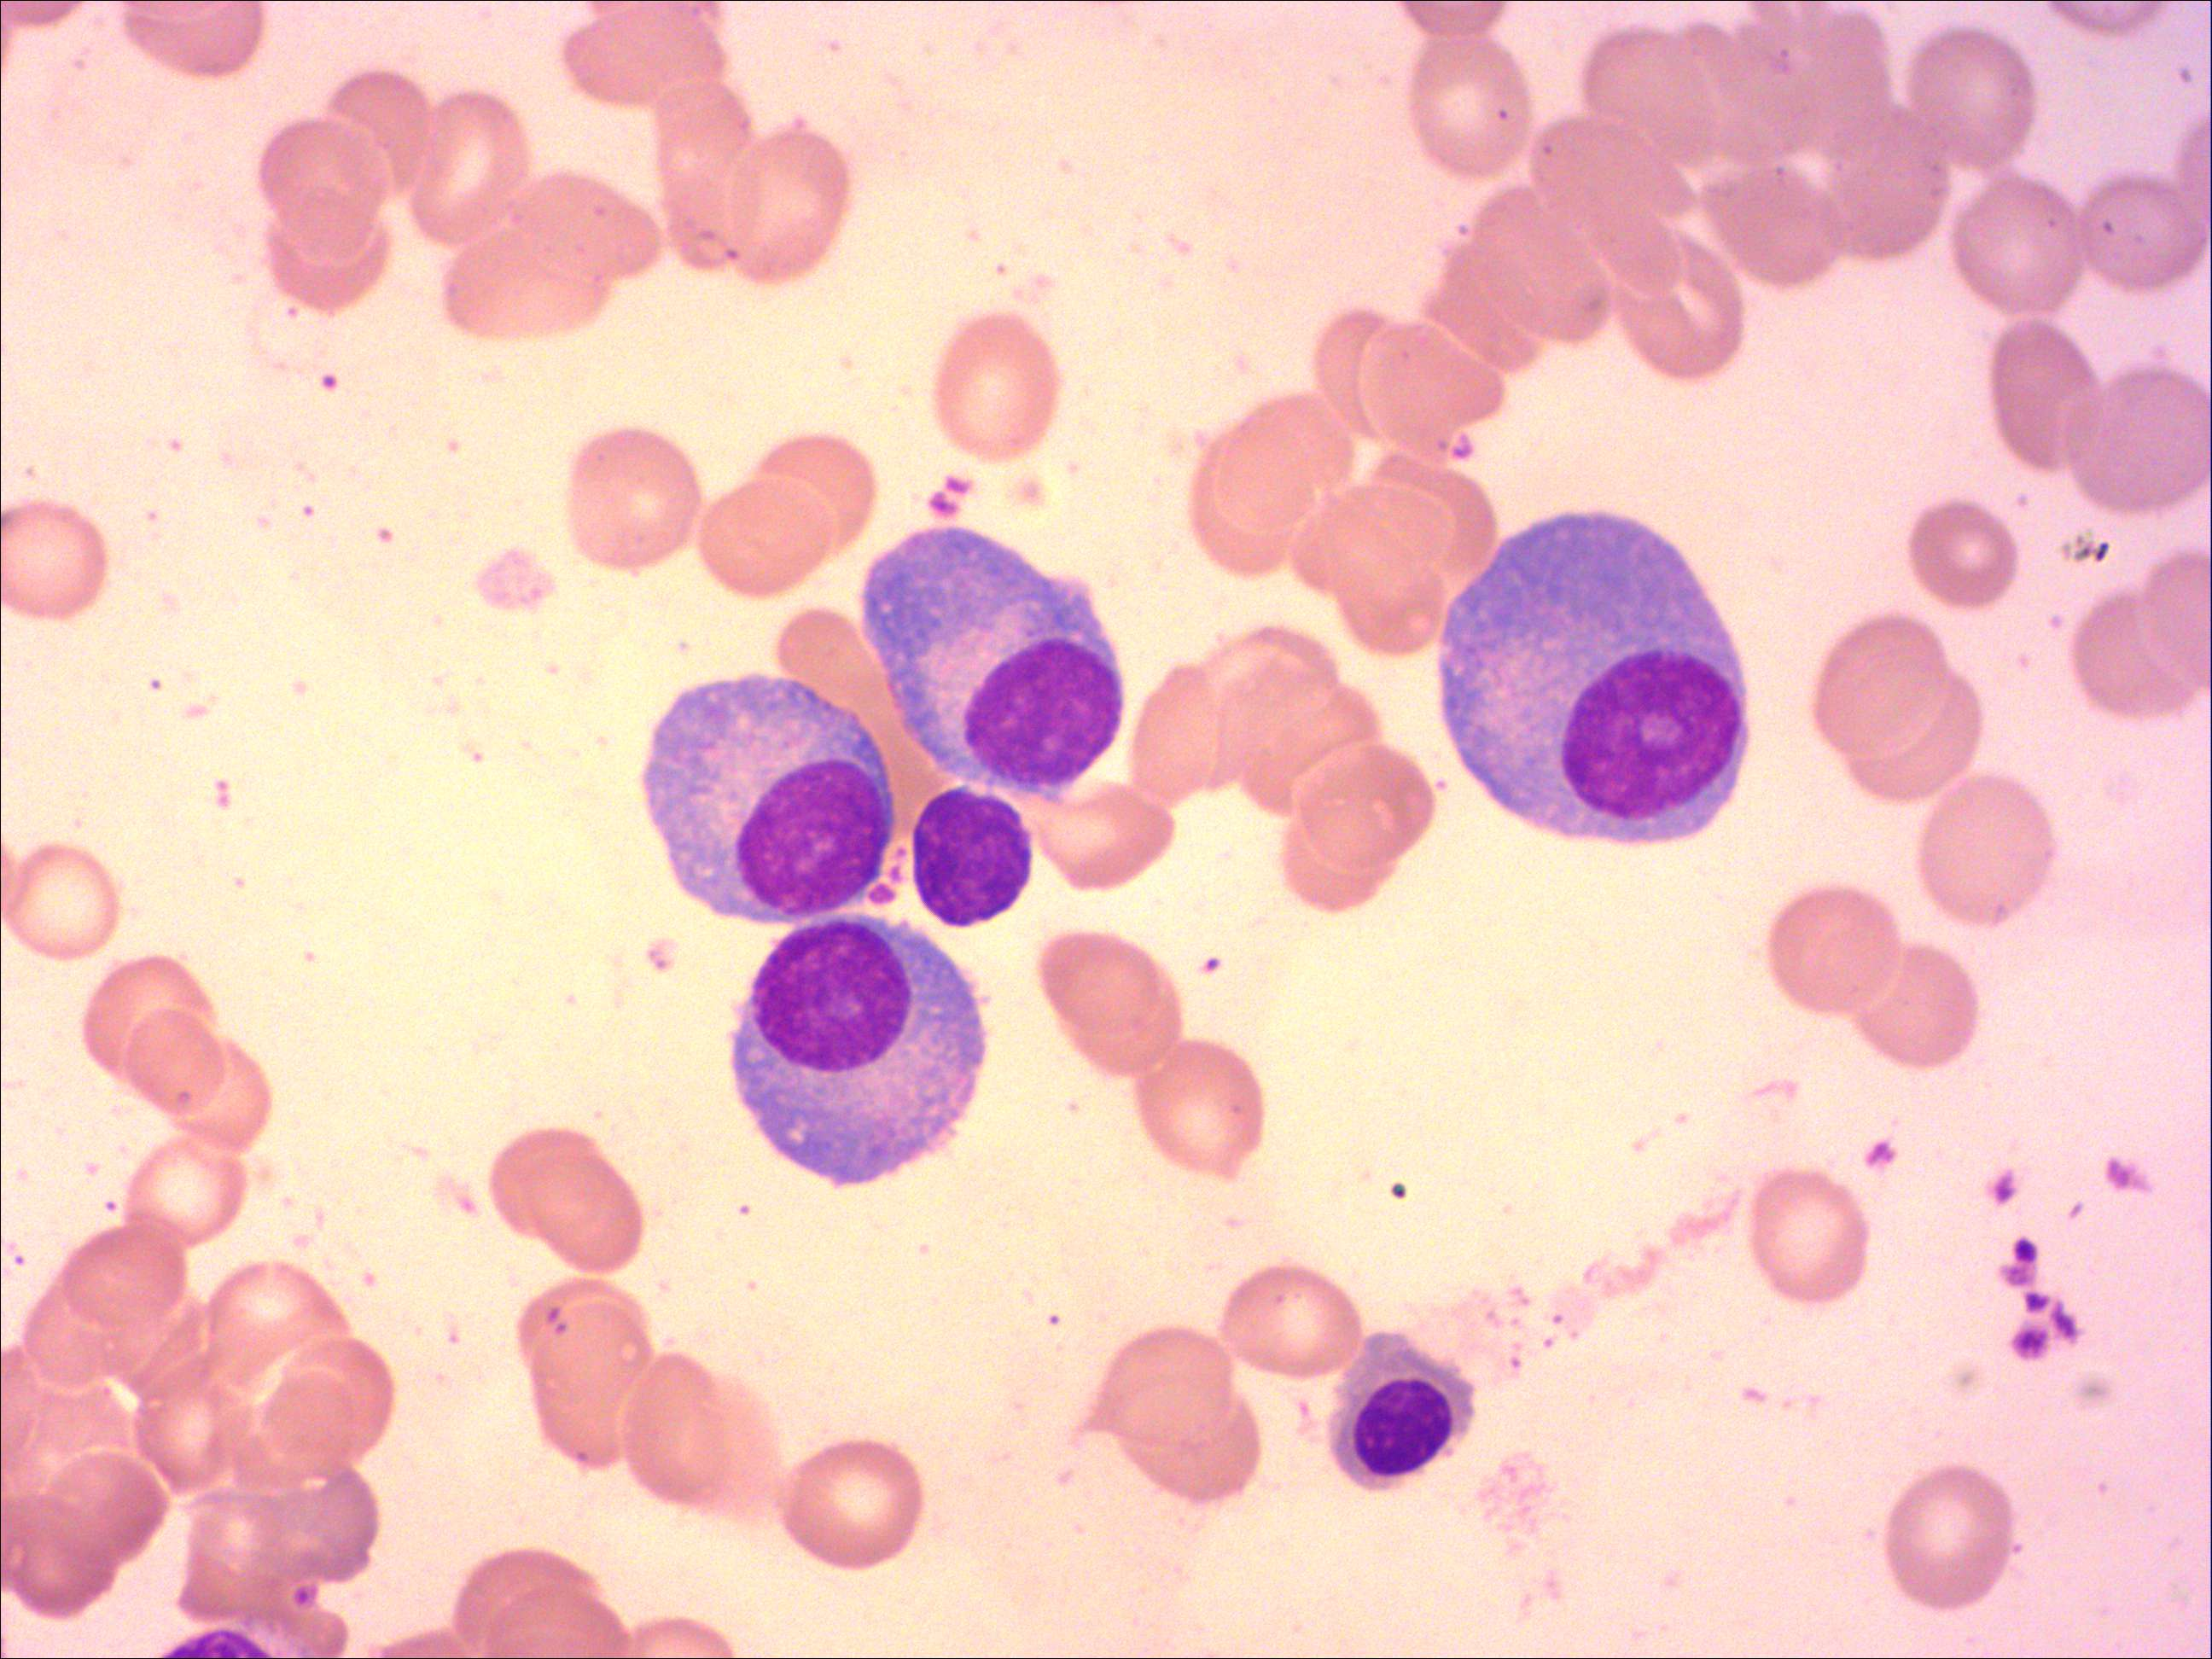24: (1324, 1326, 1480, 1499)
51: (1433, 507, 1757, 850), (855, 518, 1129, 803), (725, 911, 989, 1192), (634, 667, 902, 929)
x: (907, 786, 1038, 934)
